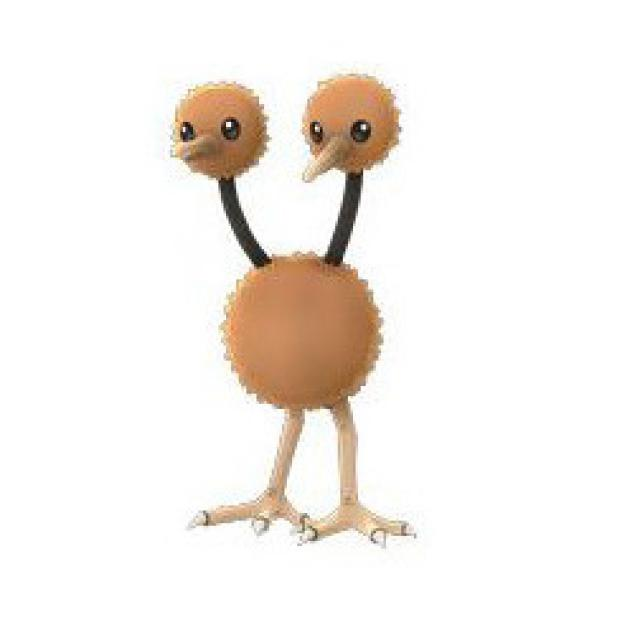Doduo: (171, 80, 406, 554)
